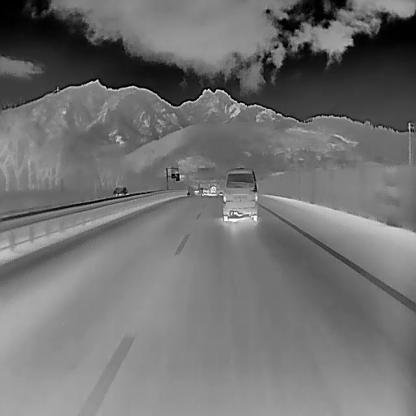car: (218, 167, 257, 221), (112, 186, 127, 198), (201, 184, 210, 196), (208, 184, 216, 195)
